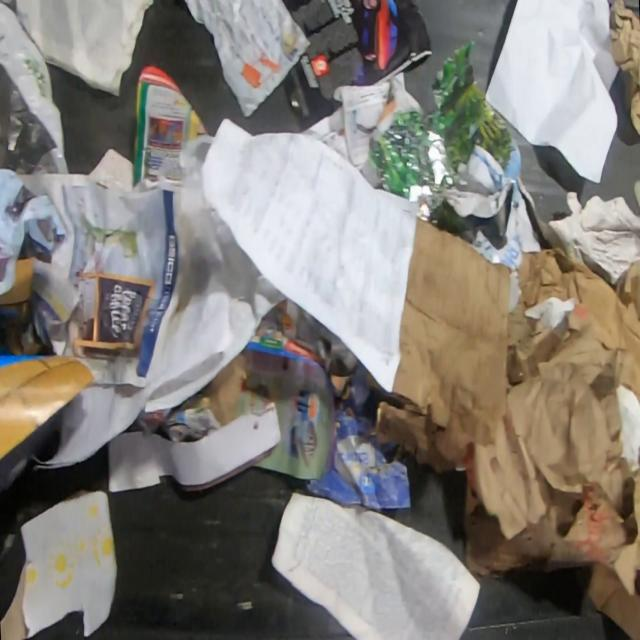cardboard: (455, 362, 640, 583), (373, 216, 511, 473), (506, 247, 640, 411), (606, 0, 640, 145), (587, 562, 640, 640)
soft_plastic: (0, 1, 72, 177)
